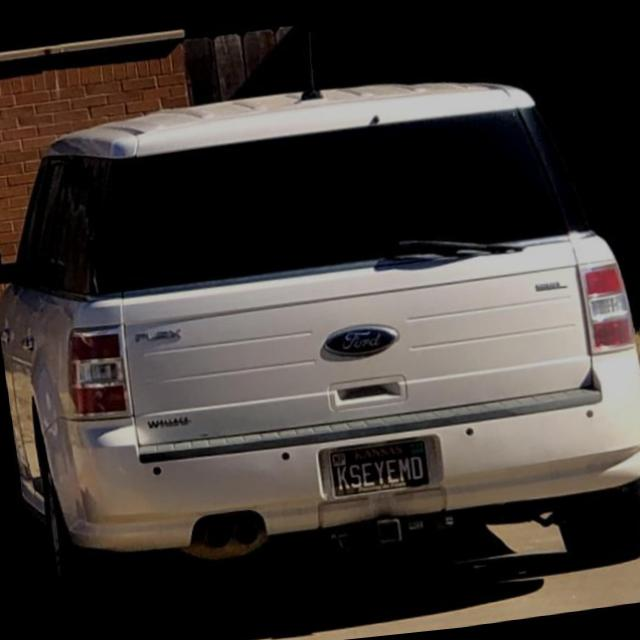LicensePlate: (327, 438, 429, 497)
